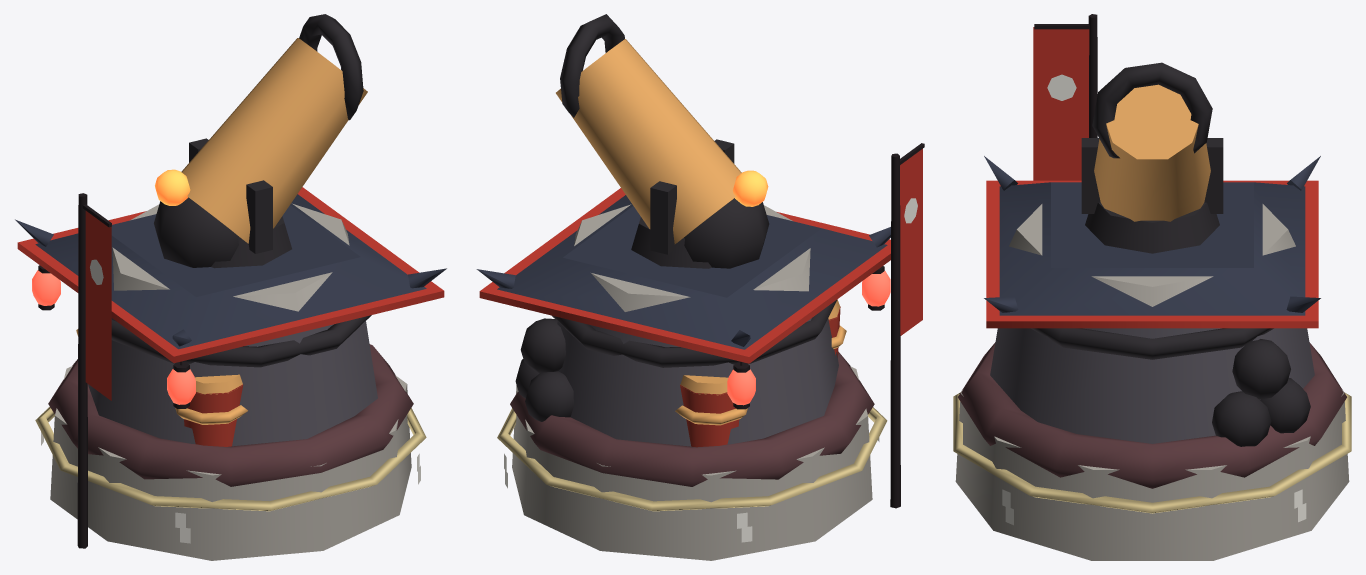
Rendered from tower_mine.glb.
3 views of the same model, side by side, from view 1: azimuth 30°, elevation 25°; view 2: azimuth 150°, elevation 25°; view 3: azimuth 270°, elevation 25° (orthographic). The views are drawn at different scales.
Visible parts, largest first — view 1: base, deco_eave_0_roof, bunker, mortar_tube, earthwall, deco_eave_0_rim, deco_shimenawa_rope, deco_nobori_cloth, mortar_breech, bunker_band, bunker_cap, deco_nobori_pole (+10 smaller); view 2: base, deco_eave_0_roof, bunker, mortar_tube, earthwall, deco_eave_0_rim, deco_shimenawa_rope, bunker_band, mortar_breech, deco_nobori_cloth, bunker_cap, deco_nobori_pole (+12 smaller); view 3: base, deco_eave_0_roof, bunker, earthwall, mortar_tube, deco_eave_0_rim, deco_nobori_cloth, deco_shimenawa_rope, bunker_band, turret_yoke, mortar_mouth, bunker_cap (+8 smaller).
Boxes of the visible parts, x1,y1,x2,y2 form: base: (50,366,411,560); deco_eave_0_roof: (35,194,426,349); bunker: (88,318,377,446); mortar_tube: (181,38,367,243); earthwall: (48,344,413,486); deco_eave_0_rim: (17,187,444,363); deco_shimenawa_rope: (35,407,426,511); deco_nobori_cloth: (85,211,111,400); mortar_breech: (154,197,239,267); bunker_band: (111,315,371,367); bunker_cap: (112,203,349,311); deco_nobori_pole: (77,193,87,548); base: (512,366,872,560); deco_eave_0_roof: (497,195,887,349); bunker: (557,318,838,446); mortar_tube: (556,39,741,244); earthwall: (510,351,874,486); deco_eave_0_rim: (479,188,890,363); deco_shimenawa_rope: (497,407,887,511); bunker_band: (552,299,837,367); mortar_breech: (684,198,769,268); deco_nobori_cloth: (900,149,922,335); bunker_cap: (574,204,810,311); deco_nobori_pole: (890,153,900,508); base: (955,390,1349,560); deco_eave_0_roof: (999,182,1305,315); bunker: (990,328,1314,443); earthwall: (958,342,1346,488); mortar_tube: (1094,84,1210,221); deco_eave_0_rim: (986,180,1318,328); deco_nobori_cloth: (1033,27,1089,180); deco_shimenawa_rope: (953,392,1351,513); bunker_band: (1031,328,1273,359); turret_yoke: (1085,202,1219,253); mortar_mouth: (1092,62,1212,158); bunker_cap: (1009,204,1295,306).
Size of the model in its own units: 0.4387 by 0.528 by 0.4052.
